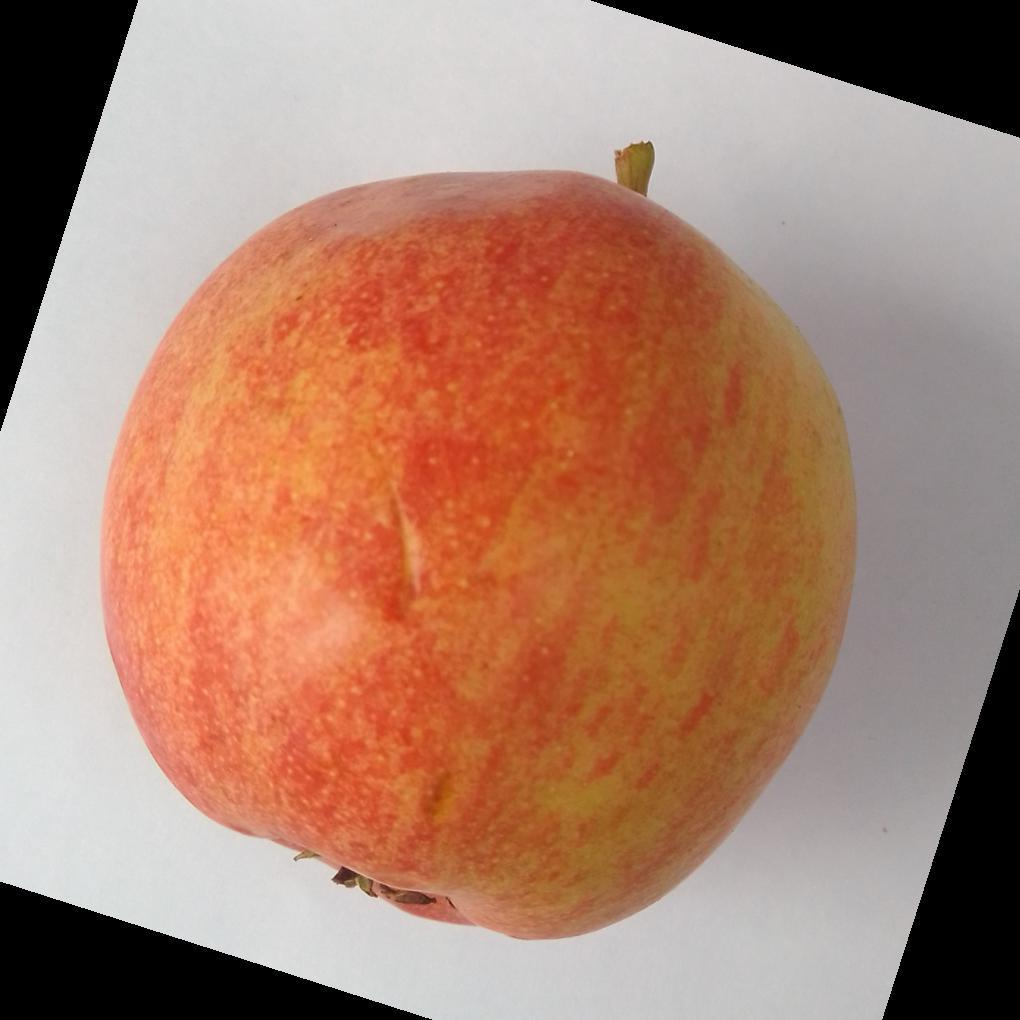FreshGuava: (96, 172, 859, 946)
